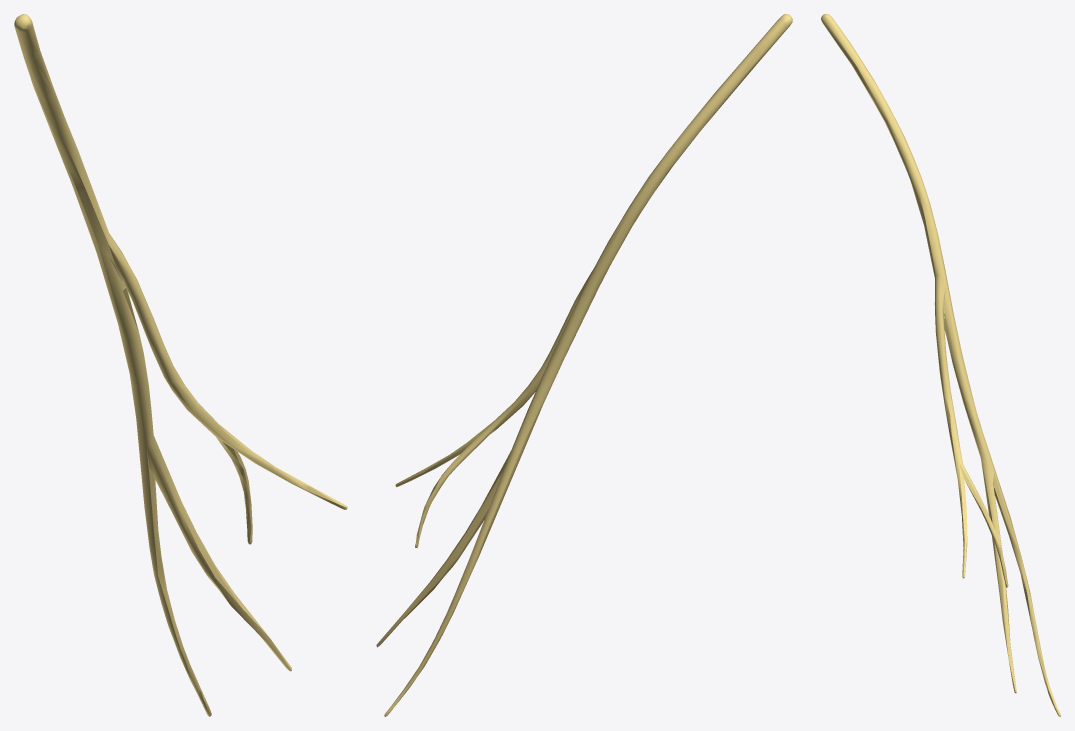
The model's file is fma65306_fj4242.glb.
The picture shows the model from 3 angles, left to right: view 1: azimuth 30°, elevation 25°; view 2: azimuth 150°, elevation 25°; view 3: azimuth 270°, elevation 25°; orthographic projection. The views are drawn at different scales.
Visible parts, largest first — view 1: FMA65306_FJ4242; view 2: FMA65306_FJ4242; view 3: FMA65306_FJ4242.
Part boxes in pixels (x1,y1,x2,y2): FMA65306_FJ4242: (14, 14, 347, 716); FMA65306_FJ4242: (376, 14, 792, 716); FMA65306_FJ4242: (821, 14, 1060, 716).
Bounding box in the file's own units: 0.0533 × 0.1072 × 0.0396.
